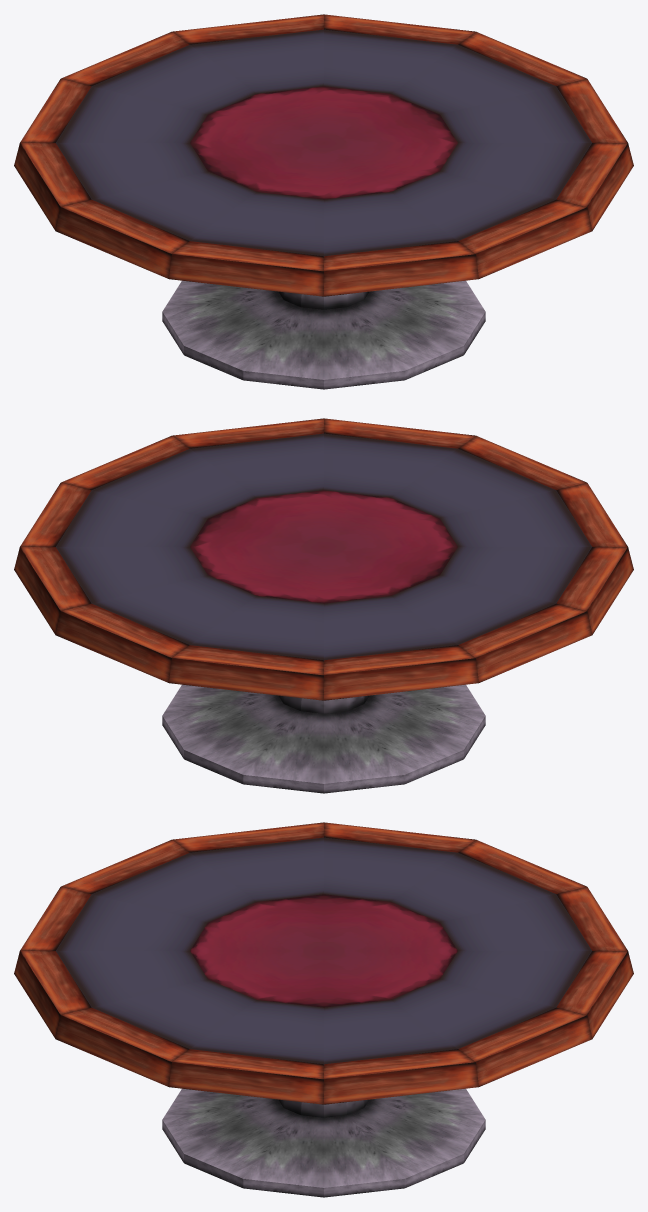
Rendered from disco_table_round.DAE.
The picture shows the model from 3 angles, top to bottom: view 1: azimuth 30°, elevation 25°; view 2: azimuth 150°, elevation 25°; view 3: azimuth 270°, elevation 25°; orthographic projection.
Visible parts, largest first — view 1: Cylinder01; view 2: Cylinder01; view 3: Cylinder01.
Part boxes in pixels (bbox=[...]): Cylinder01: bbox=[14, 14, 633, 389]; Cylinder01: bbox=[14, 418, 633, 793]; Cylinder01: bbox=[14, 822, 633, 1197].
Bounding box in the file's own units: 2.71 × 0.8598 × 2.71.
